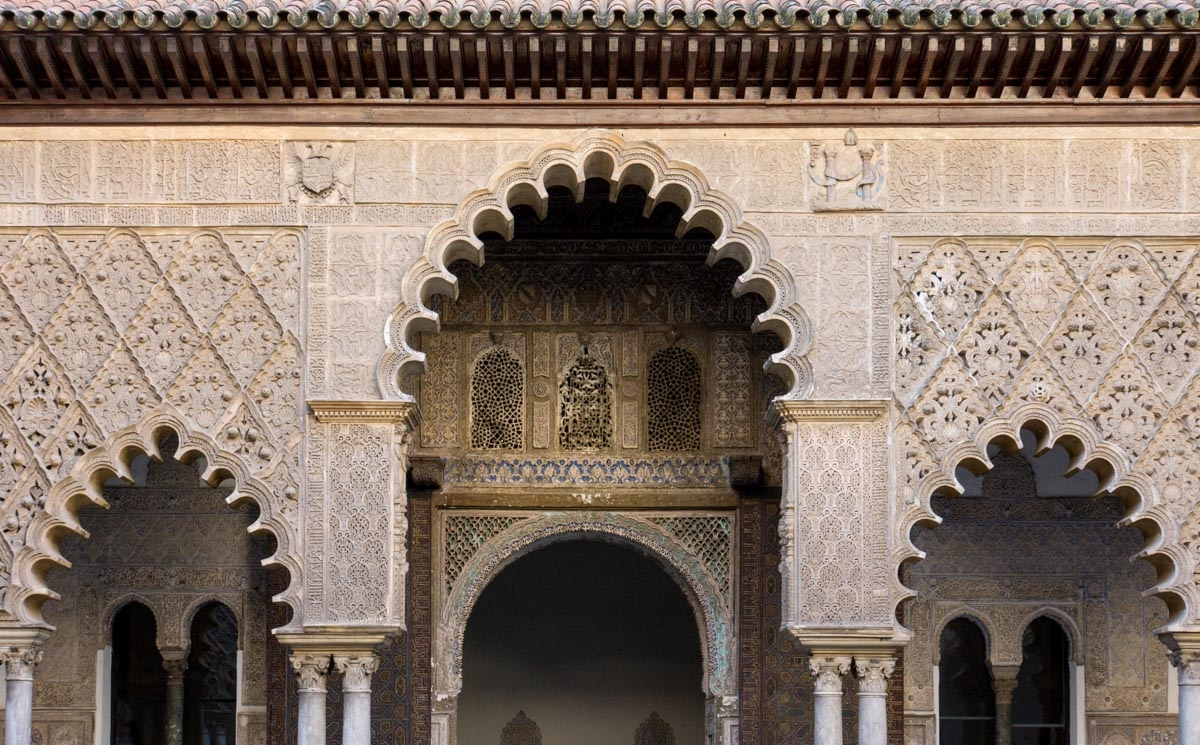arco-lobulado: (361, 129, 819, 454), (867, 390, 1200, 702), (1, 404, 318, 709)
